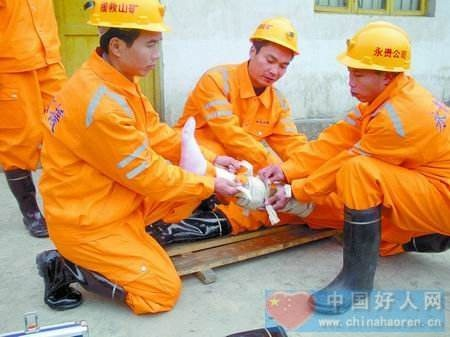yellow: (336, 19, 416, 104), (86, 1, 164, 81), (248, 16, 299, 85)
